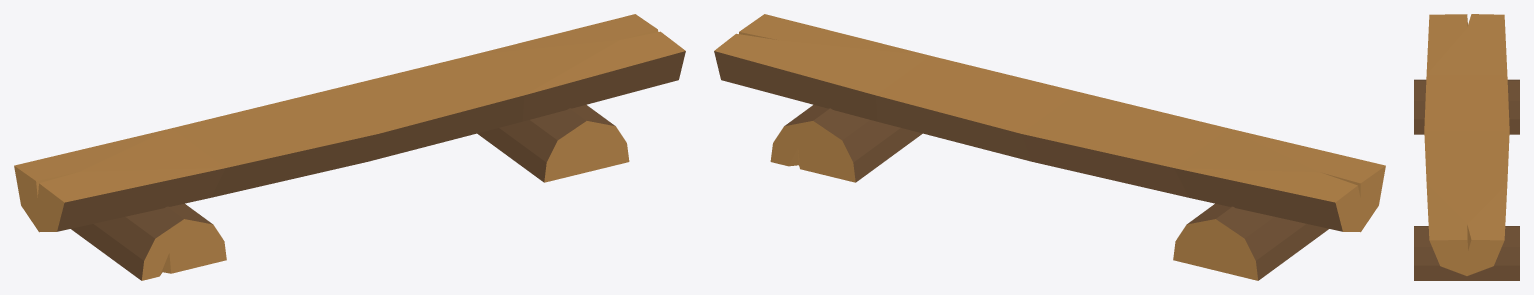
Rendered from bench-forest.glb.
3 views of the same model, side by side, from view 1: azimuth 30°, elevation 25°; view 2: azimuth 150°, elevation 25°; view 3: azimuth 270°, elevation 25° (orthographic). The views are drawn at different scales.
Parts seen in each view (by area): view 1: bench-forest; view 2: bench-forest; view 3: bench-forest.
Boxes of the visible parts, x1,y1,x2,y2 form: bench-forest: (14,14,685,280); bench-forest: (714,14,1385,280); bench-forest: (1414,14,1519,280).
Size of the model in its own units: 2.93 by 0.4013 by 0.5792.
Materials: 1 (1 with a texture image).
